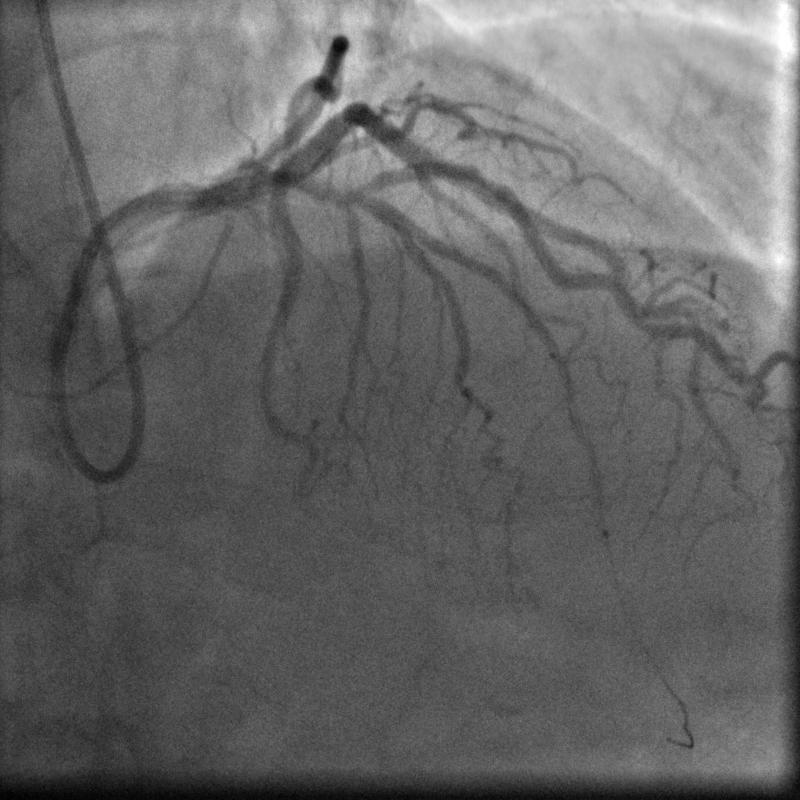Stenosis: (466, 160, 510, 206)
